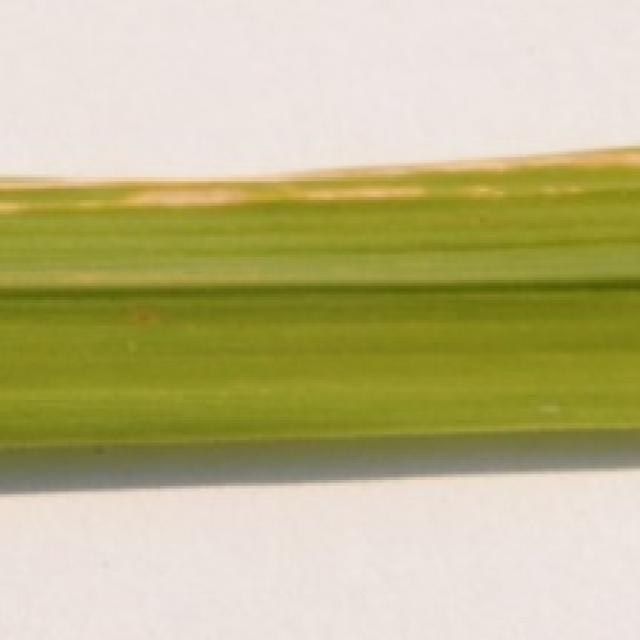Rice___Bacterial_Leaf_Blight: (0, 144, 637, 456)
